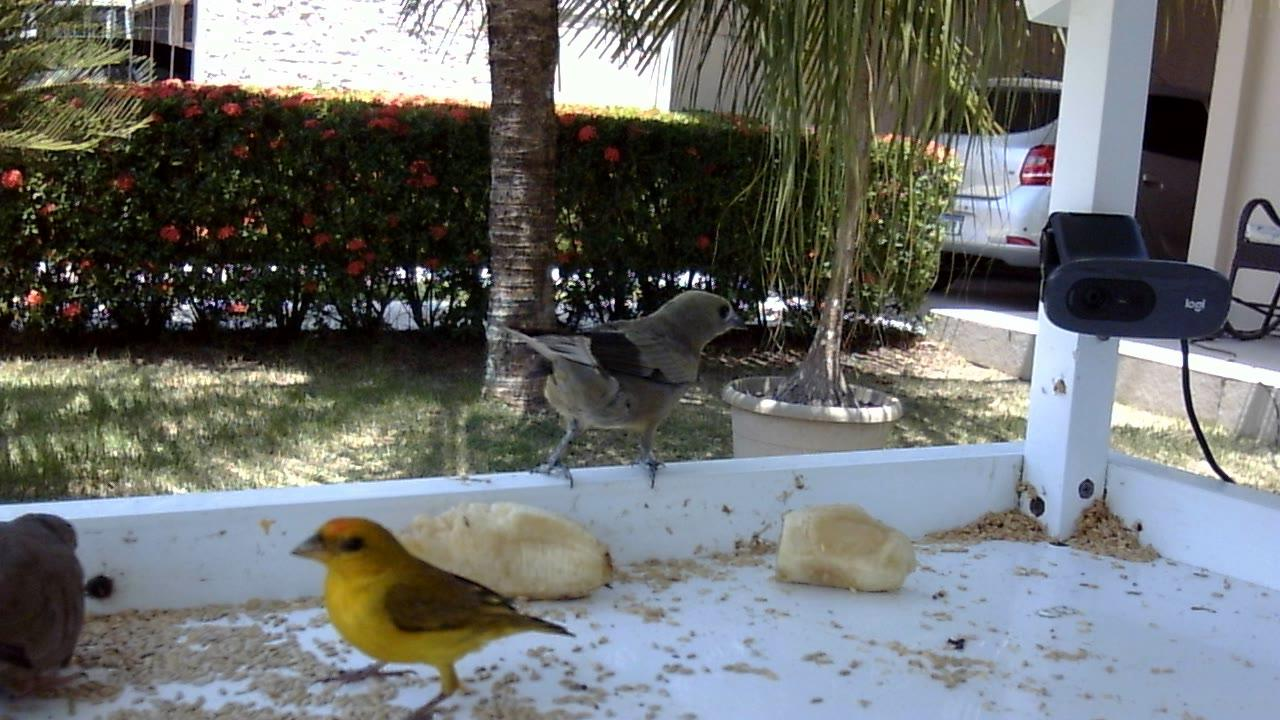canario_do_amazonas: (288, 515, 580, 720)
rolinha: (1, 510, 93, 707)
sanhaco_do_coqueiro: (501, 290, 751, 490)
